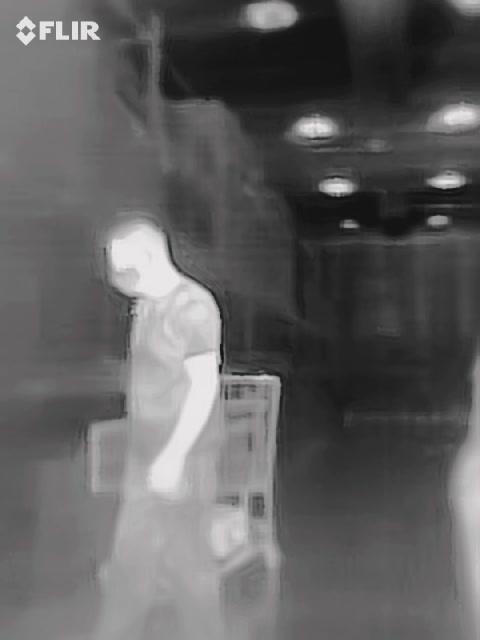head: (103, 216, 169, 299)
